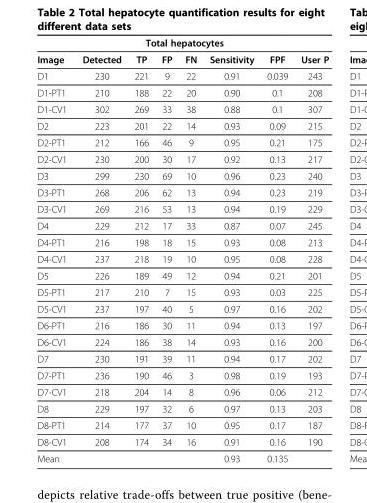table: (36, 36, 328, 463)
table column: (202, 36, 259, 463), (73, 36, 127, 463), (36, 36, 73, 463), (293, 36, 328, 463), (259, 36, 293, 463), (127, 36, 154, 463), (177, 36, 202, 463), (154, 36, 177, 463)
table column header: (36, 36, 328, 67)
table row: (36, 50, 328, 67), (36, 67, 328, 84), (36, 100, 328, 117), (36, 133, 328, 150), (36, 150, 328, 167), (36, 183, 328, 200), (36, 200, 328, 217), (36, 233, 328, 250), (36, 250, 328, 267), (36, 283, 328, 300), (36, 316, 328, 333), (36, 333, 328, 350), (36, 366, 328, 383), (36, 383, 328, 400), (36, 416, 328, 433), (36, 84, 328, 100), (36, 117, 328, 133), (36, 167, 328, 183), (36, 217, 328, 233), (36, 267, 328, 283), (36, 300, 328, 316), (36, 350, 328, 366), (36, 400, 328, 416), (36, 433, 328, 449), (36, 36, 328, 50), (36, 449, 328, 463)
table spanning cell: (36, 36, 328, 50)
